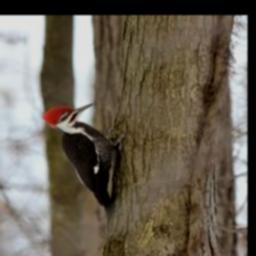Woodpecker: (42, 102, 132, 232)
